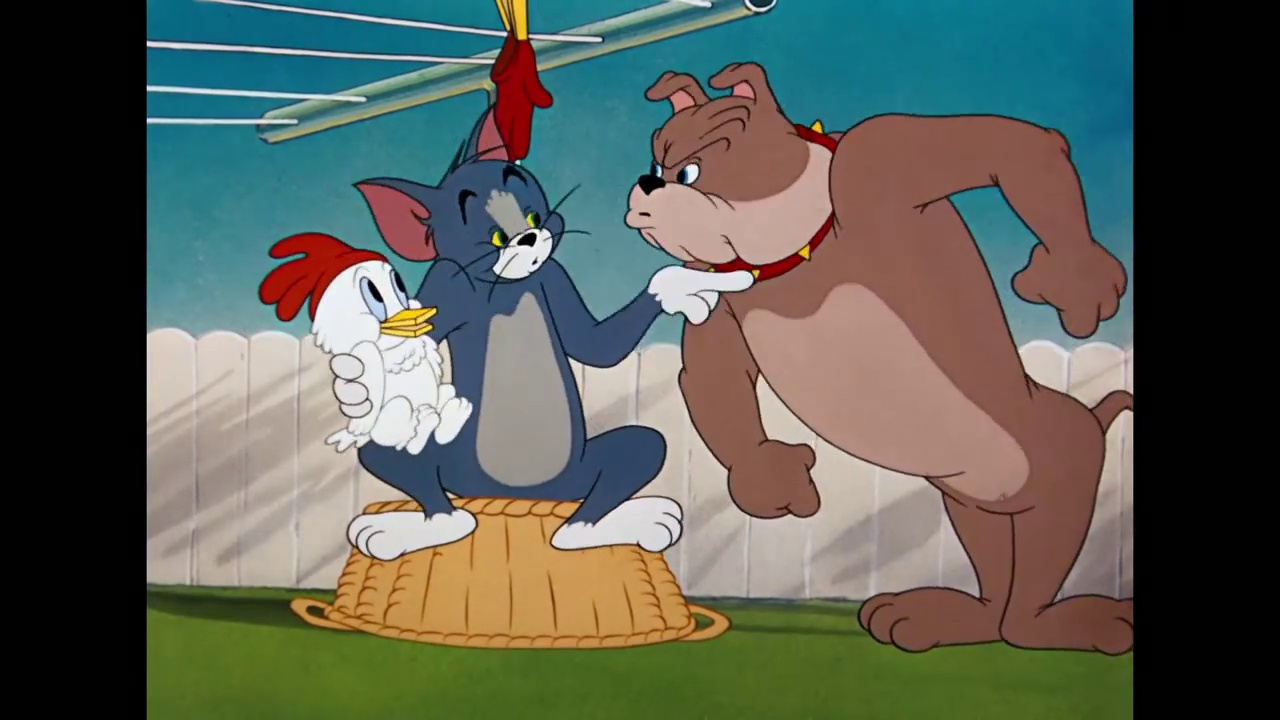spike: (625, 61, 845, 271)
tom: (349, 104, 583, 296)
